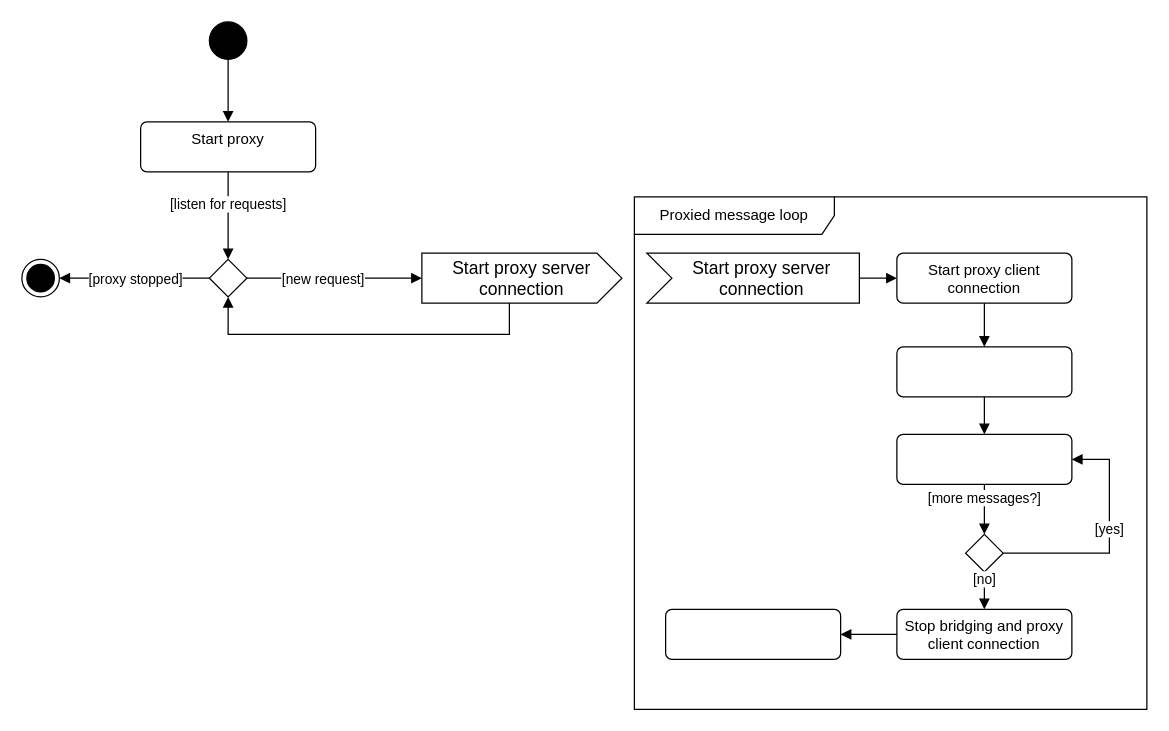
Some shapes in this 1169 by 731 pixel diagram are drawn without their labels. The centre of each missing label's shape, as x and y in pixels:
Bridge connections: the point at 984,371
Handle messages: the point at 984,458
Stop proxy server connection: the point at 752,633
